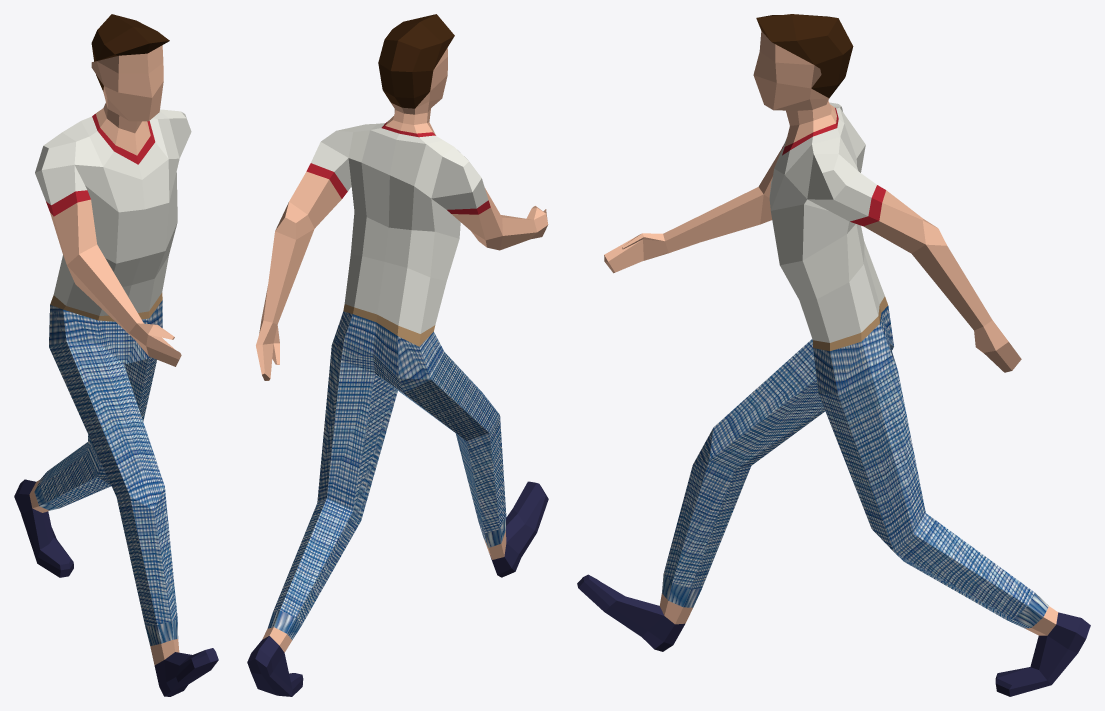
File: SpringManB.004.glb
3 views of the same model, side by side, from view 1: azimuth 30°, elevation 25°; view 2: azimuth 150°, elevation 25°; view 3: azimuth 270°, elevation 25° (orthographic). The views are drawn at different scales.
Parts seen in each view (by area): view 1: SpringManB.004; view 2: SpringManB.004; view 3: SpringManB.004.
Boxes of the visible parts, <box> form: SpringManB.004: <box>14,14,218,696</box>; SpringManB.004: <box>247,14,548,696</box>; SpringManB.004: <box>577,14,1090,696</box>.
Bounding box in the file's own units: 0.4318 × 1.62 × 1.15.
Materials: 1 (1 with a texture image).
